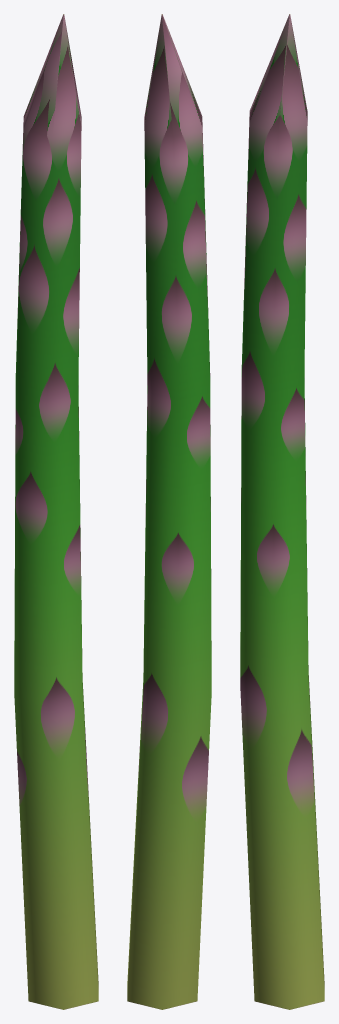
The model's file is Asparagus.FBX.
3 renders of one model, left to right at view 1: azimuth 30°, elevation 25°; view 2: azimuth 150°, elevation 25°; view 3: azimuth 330°, elevation 25°, orthographic.
Visible parts, largest first — view 1: Asparagus; view 2: Asparagus; view 3: Asparagus.
Part boxes in pixels (<box>): Asparagus: <box>14,14,98,1009</box>; Asparagus: <box>127,14,211,1009</box>; Asparagus: <box>240,14,324,1009</box>.
Size of the model in its own units: 1.44 by 16 by 1.04.
Materials: 1 (1 with a texture image).
